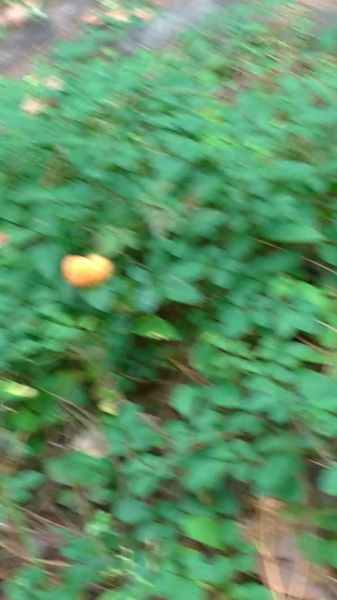eggs: (56, 248, 120, 291)
